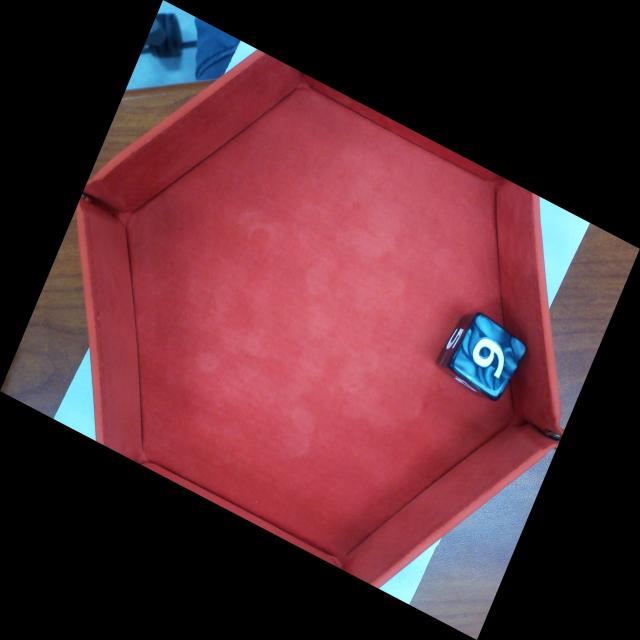dice: (445, 310, 530, 404)
